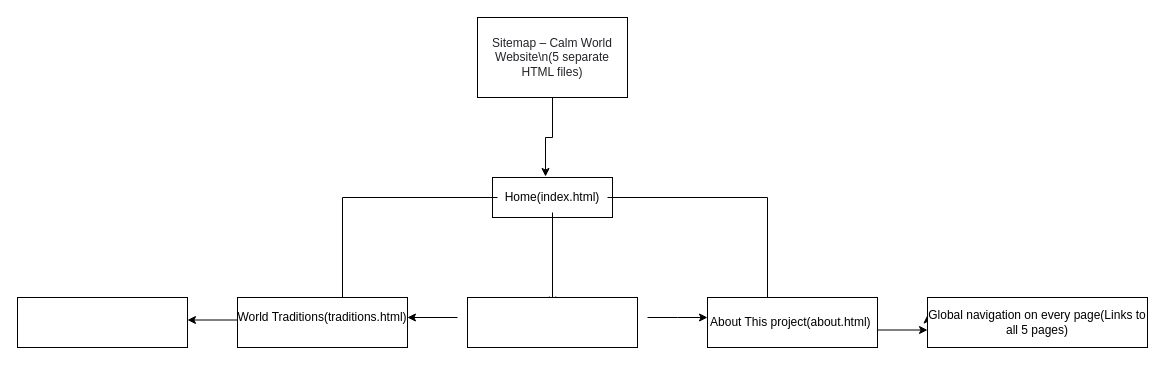
The diagram is 1165 pixels wide and 365 high, and some of its shapes have lost their labels. The shapes that lost their labels are listed below. From the top down, each one's box as (x1, y1, x2, y2) in pixels, then its label:
(16, 296, 188, 348): Daily Practices(practices.html)
(466, 296, 638, 348): Free Resources(resource.html)
